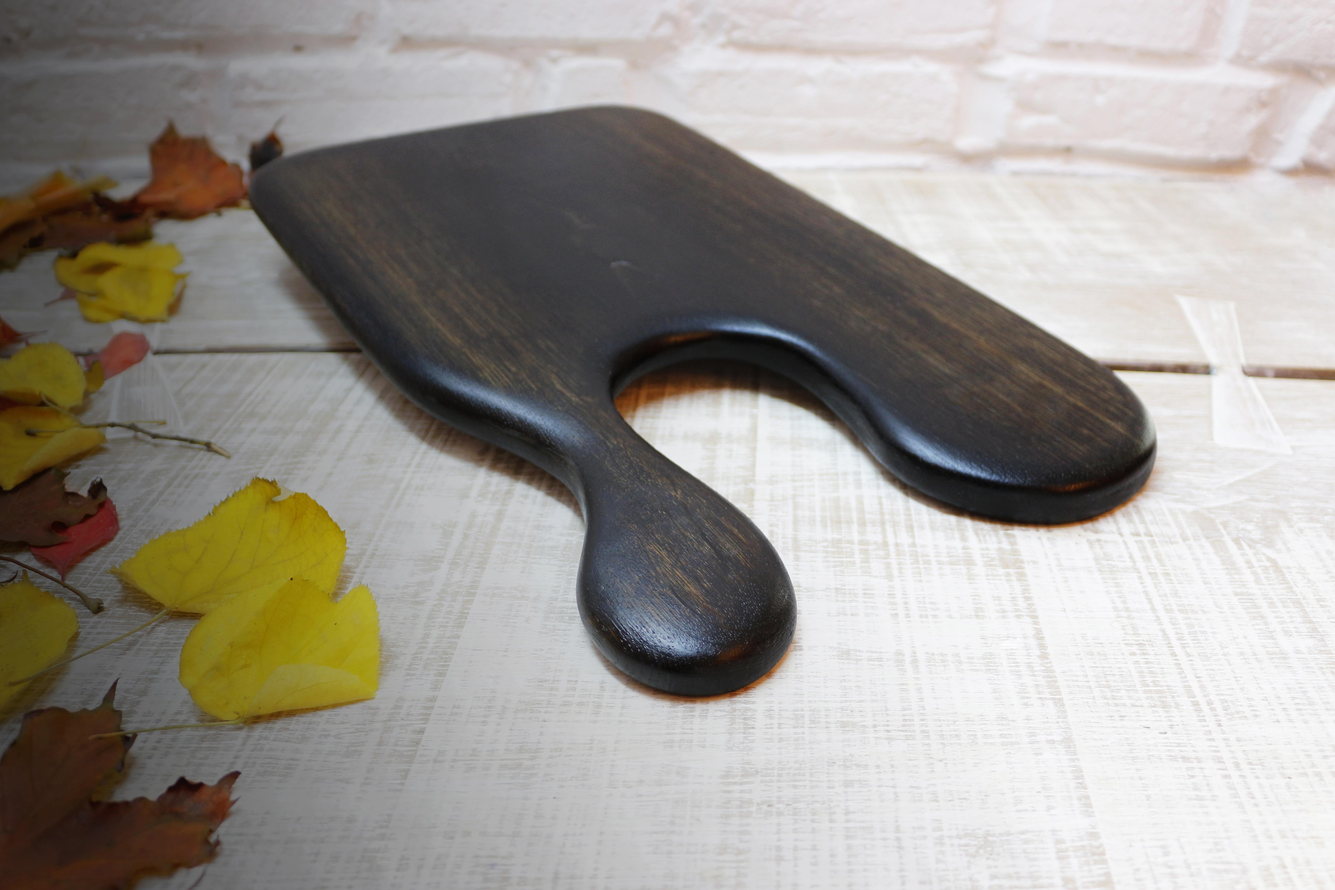gloved_hand: (240, 88, 1171, 715)
